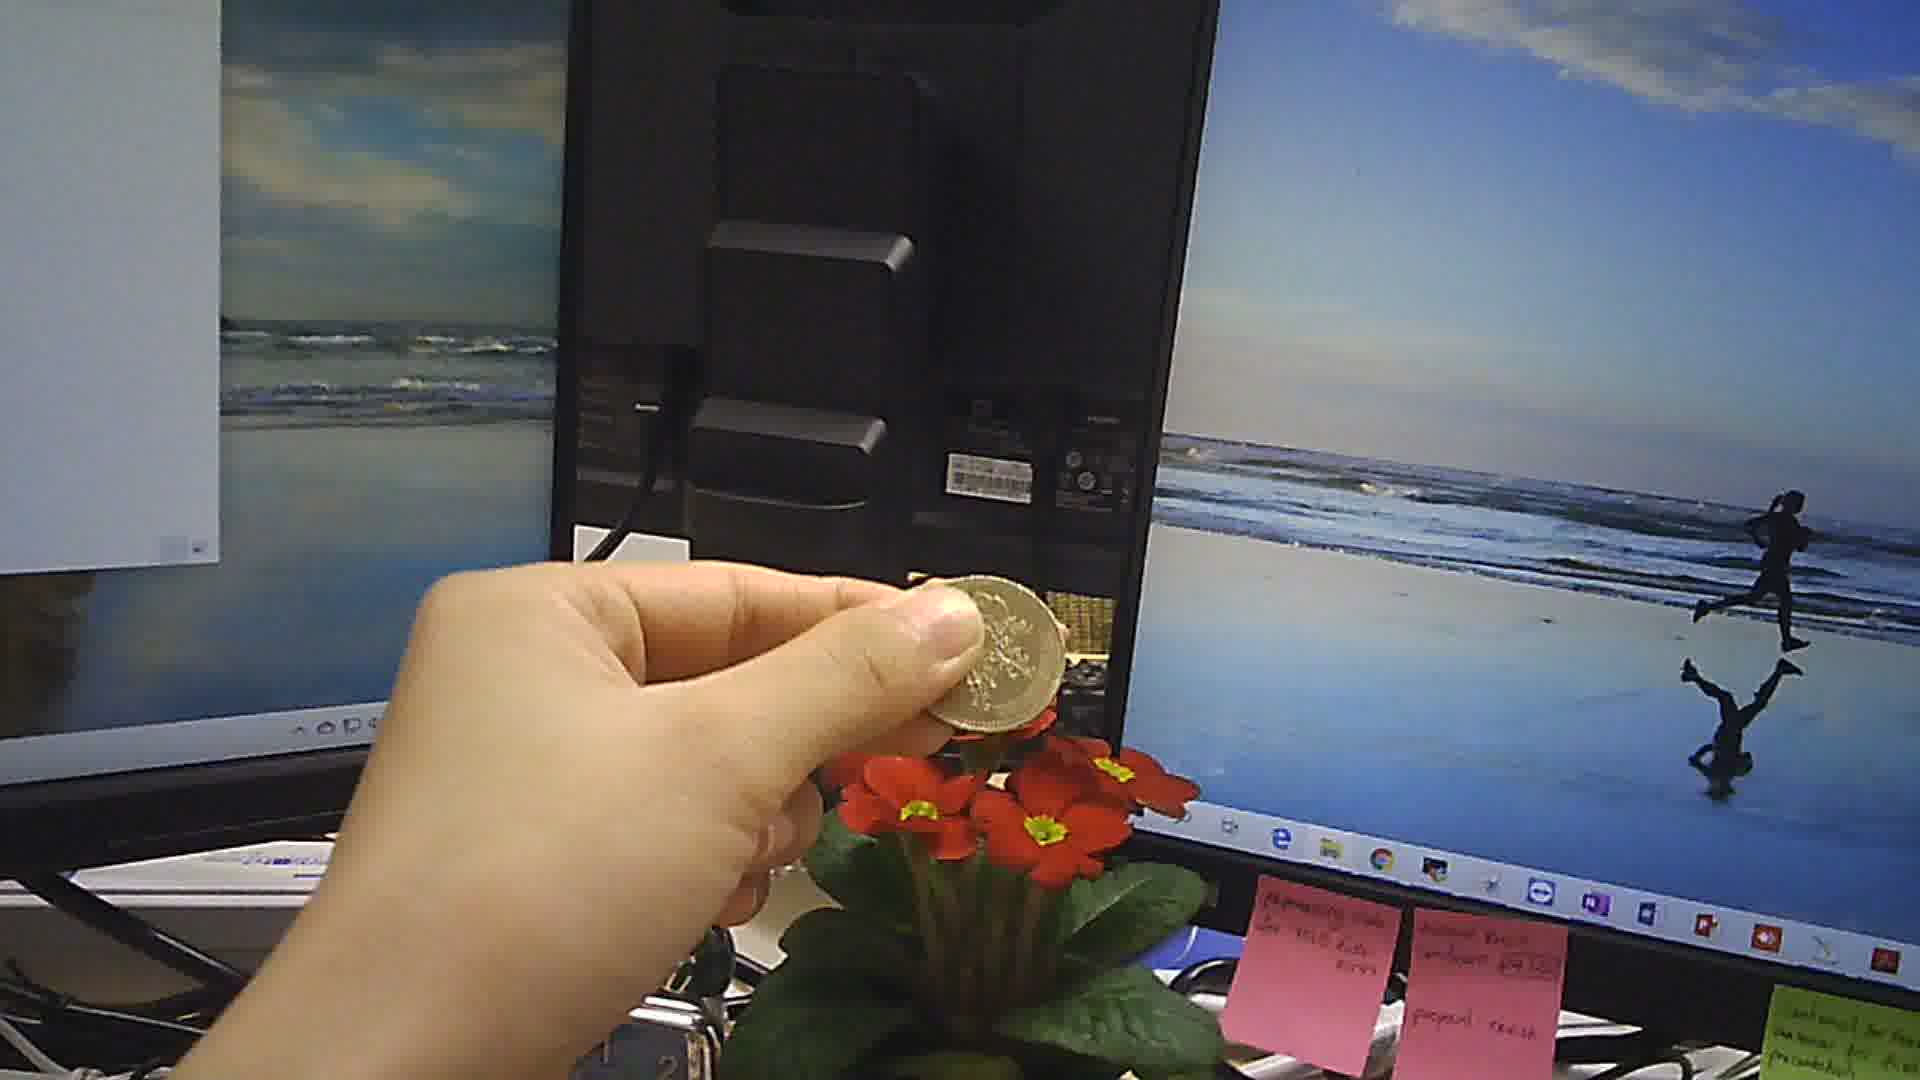500 Yen: (894, 566, 1073, 735)
